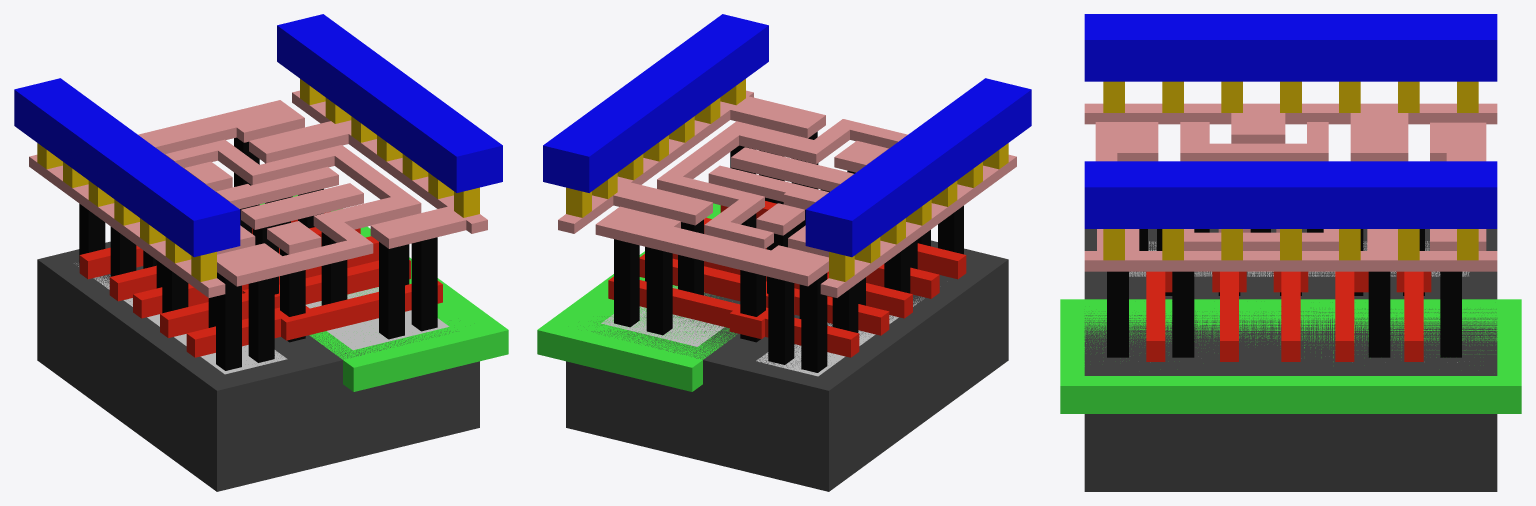
Rendered from sky130_fd_sc_hd__o31a_1.obj.
3 renders of one model, left to right at view 1: azimuth 30°, elevation 25°; view 2: azimuth 150°, elevation 25°; view 3: azimuth 270°, elevation 25°, orthographic. The views are drawn at different scales.
Visible parts, largest first — view 1: subs, li, metal1, licon, poly, nwell, mcon, tap, diff; view 2: subs, li, metal1, licon, poly, nwell, mcon, tap, diff; view 3: metal1, subs, li, nwell, poly, mcon, licon, diff.
Boxes of the visible parts, x1,y1,x2,y2 form: subs: [37, 241, 479, 491]; li: [29, 90, 487, 297]; metal1: [14, 14, 502, 257]; licon: [79, 137, 437, 370]; poly: [79, 211, 442, 357]; nwell: [259, 195, 508, 391]; mcon: [37, 79, 479, 281]; tap: [305, 287, 449, 350]; diff: [74, 263, 287, 374]; subs: [566, 240, 1008, 491]; li: [558, 90, 1016, 297]; metal1: [543, 14, 1031, 257]; licon: [614, 131, 963, 372]; poly: [608, 201, 966, 357]; nwell: [537, 203, 736, 391]; mcon: [566, 79, 1008, 281]; tap: [601, 286, 724, 346]; diff: [756, 297, 924, 376]; metal1: [1084, 14, 1497, 228]; subs: [1084, 229, 1497, 491]; li: [1084, 103, 1497, 271]; nwell: [1060, 299, 1521, 413]; poly: [1146, 271, 1431, 361]; mcon: [1103, 81, 1478, 260]; licon: [1107, 229, 1461, 357]; diff: [1129, 241, 1469, 276].
Size of the model in its own units: 3.2 by 2.74 by 3.6.
